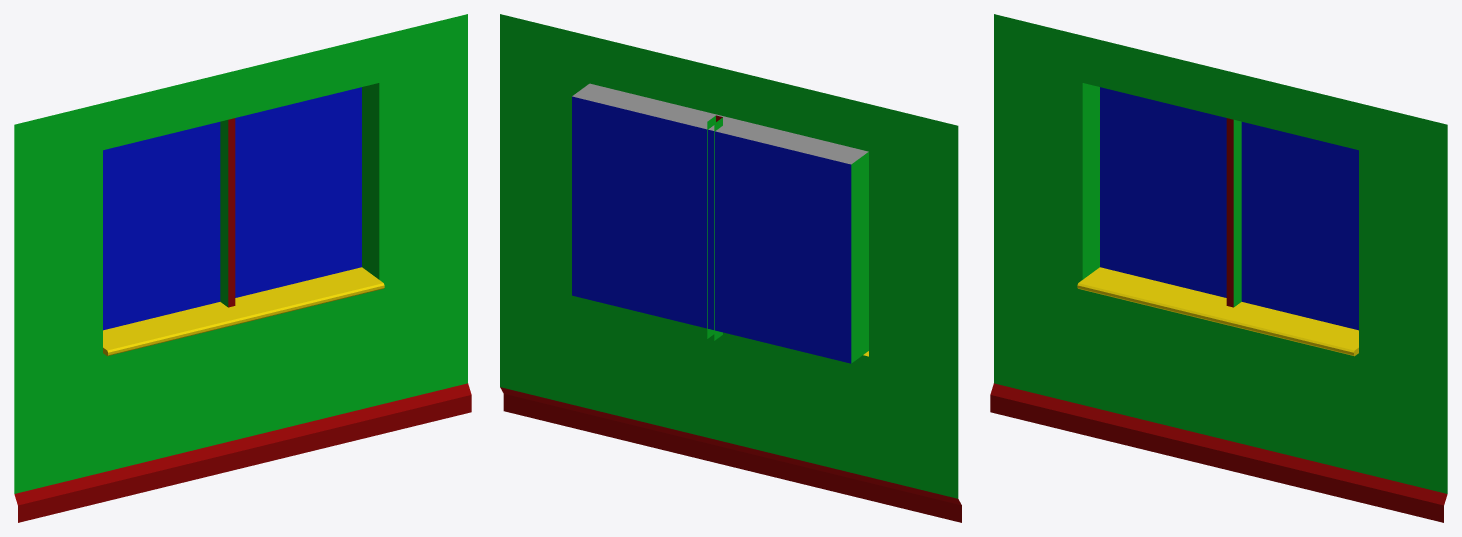
File: wall_window.FBX
3 views of the same model, side by side, from view 1: azimuth 30°, elevation 25°; view 2: azimuth 150°, elevation 25°; view 3: azimuth 330°, elevation 25° (orthographic).
Visible parts, largest first — view 1: wall; view 2: wall; view 3: wall.
Boxes of the visible parts, box(x1,y1,x2,y2) form: wall: box(14, 14, 471, 522); wall: box(500, 14, 961, 522); wall: box(990, 14, 1447, 522).
Size of the model in its own units: 300 by 250 by 26.85.
